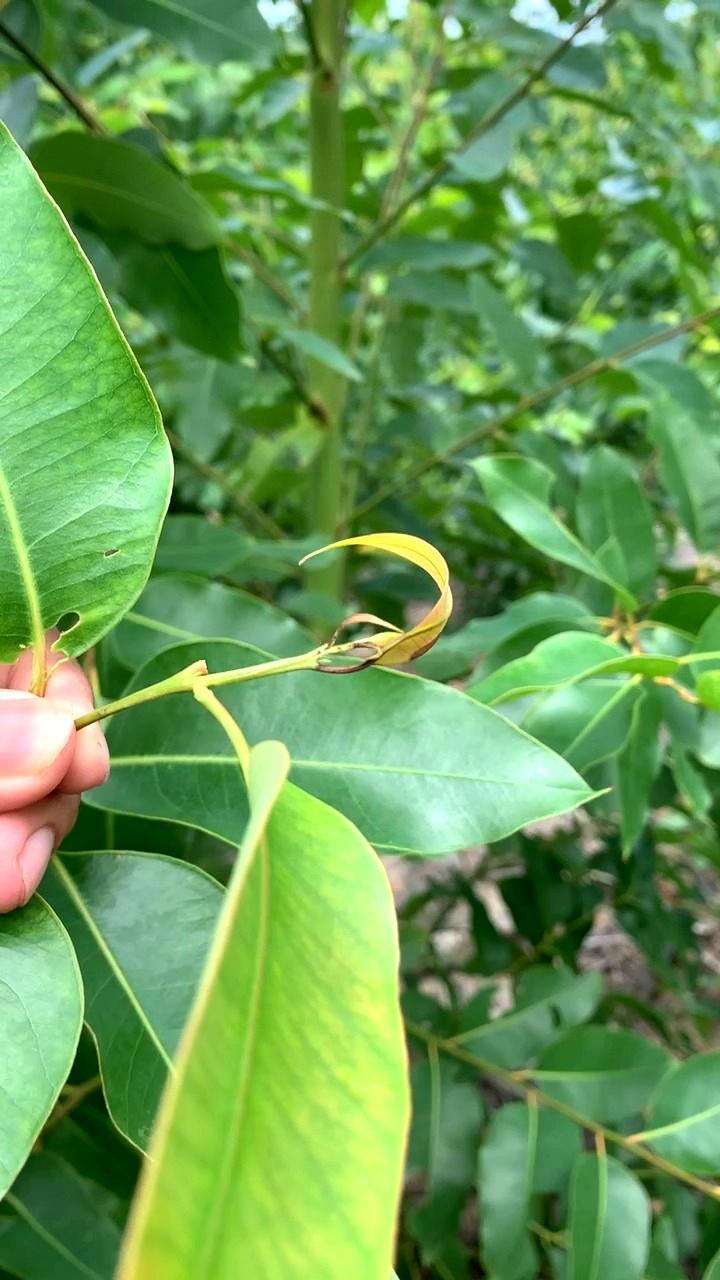Helopeltis-Withered Sprout: (286, 508, 471, 697)
